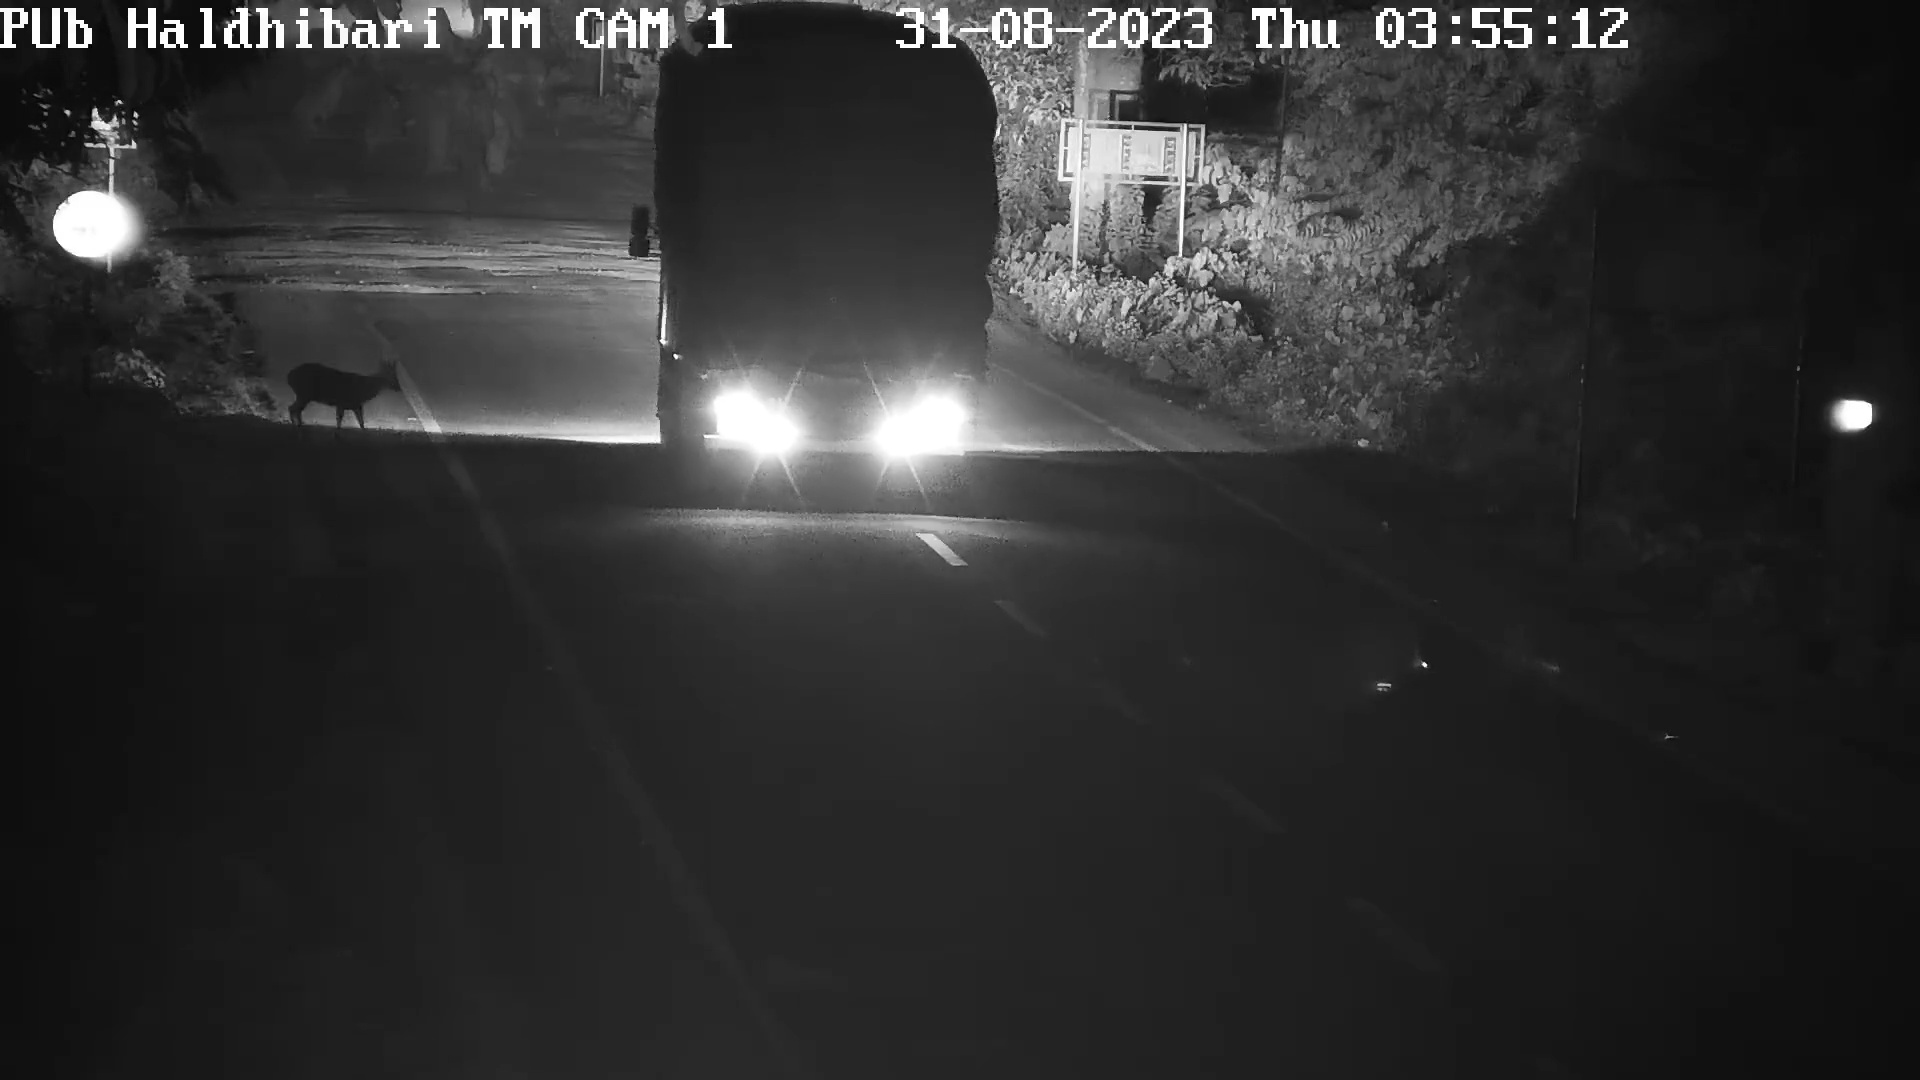deers: (285, 355, 401, 429)
